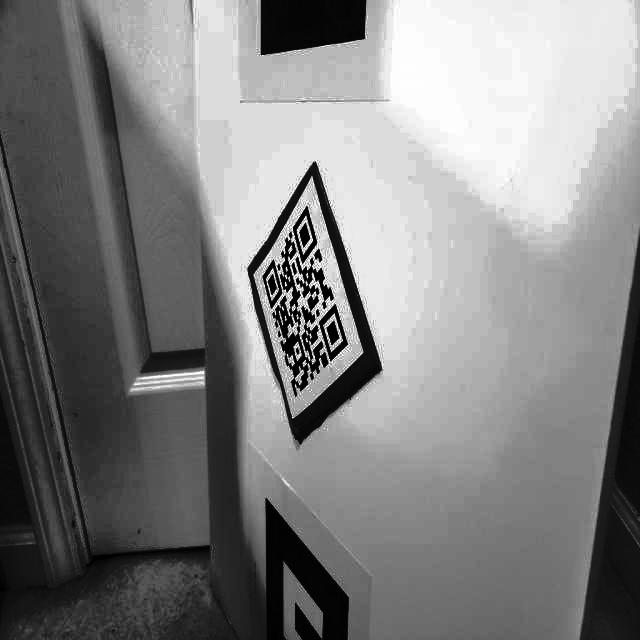qr_code: (255, 196, 355, 405)
